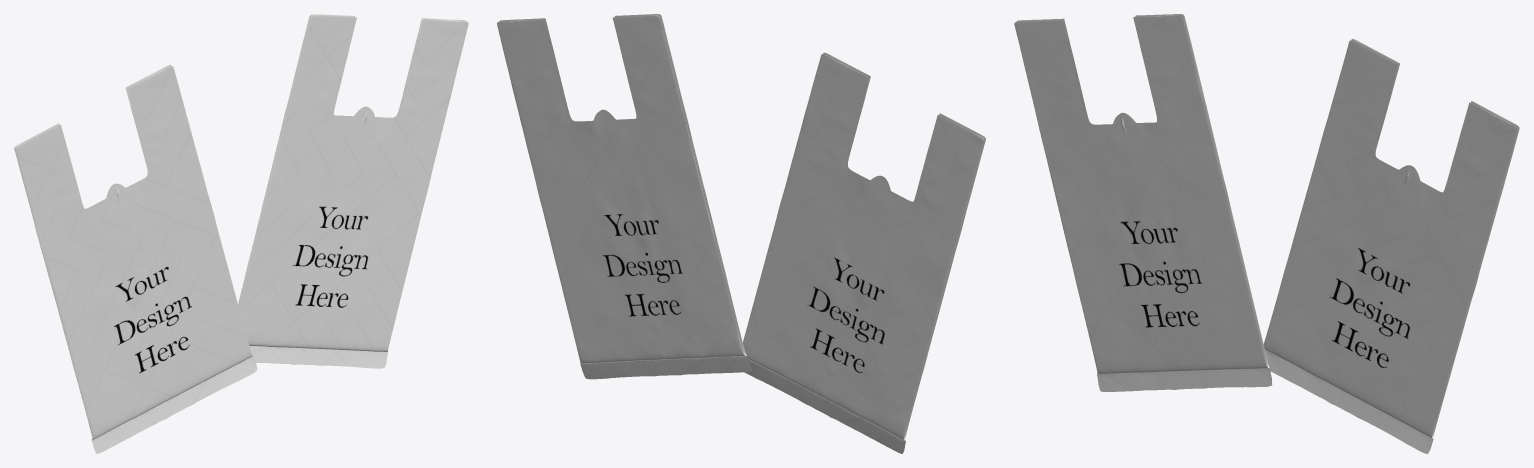
The model's file is Bio de A-3.glb.
The picture shows the model from 3 angles, left to right: view 1: azimuth 30°, elevation 25°; view 2: azimuth 150°, elevation 25°; view 3: azimuth 330°, elevation 25°; orthographic projection. The views are drawn at different scales.
Visible parts, largest first — view 1: Plane.002, Plane.003; view 2: Plane.003, Plane.002; view 3: Plane.002, Plane.003.
Part boxes in pixels (left/top/right/bottom): Plane.002: left=14, top=64, right=257, bottom=453; Plane.003: left=238, top=14, right=468, bottom=368; Plane.003: left=497, top=14, right=751, bottom=379; Plane.002: left=743, top=52, right=985, bottom=453; Plane.002: left=1014, top=14, right=1272, bottom=391; Plane.003: left=1263, top=39, right=1519, bottom=453.
Bounding box in the file's own units: 5.02 × 3.92 × 0.2229.
Materials: 1 (1 with a texture image).
